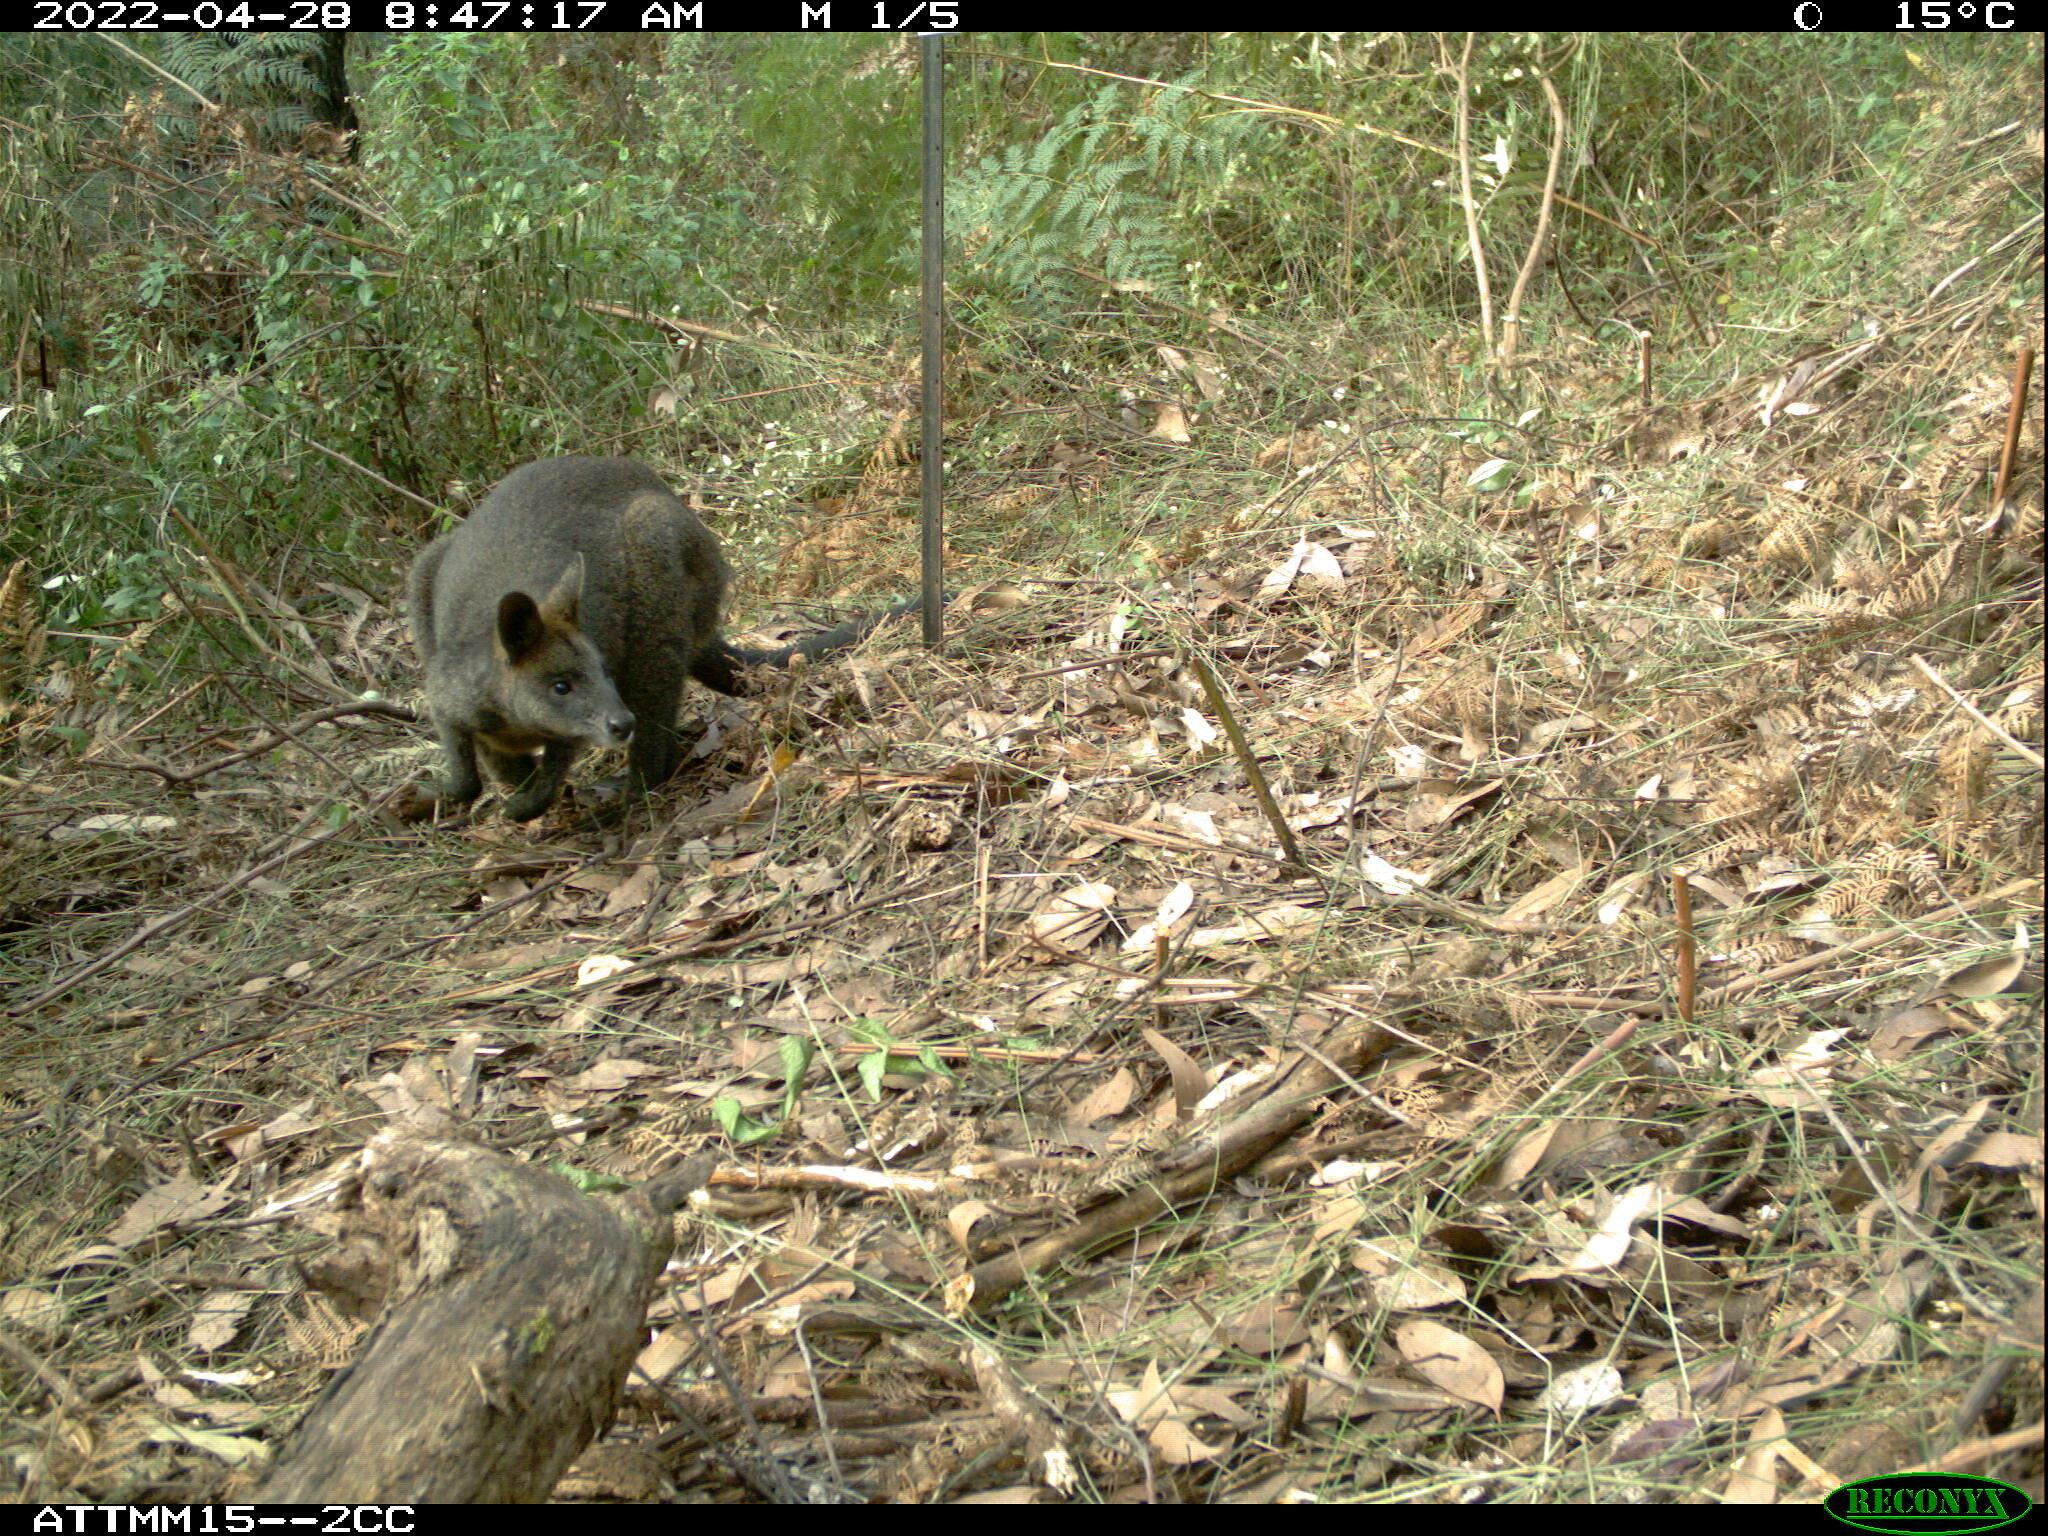Swamp wallaby: (385, 452, 964, 829)
